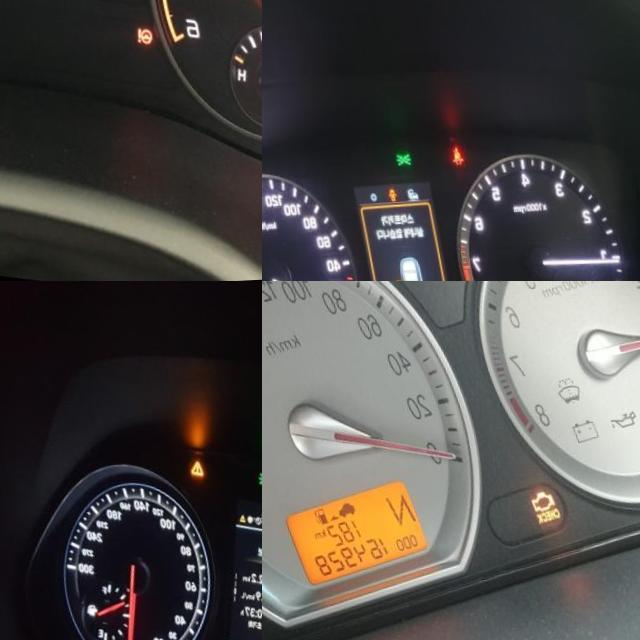Central Warning lamp: (183, 461, 201, 480)
SideLamp: (386, 153, 404, 169), (249, 474, 262, 489)
